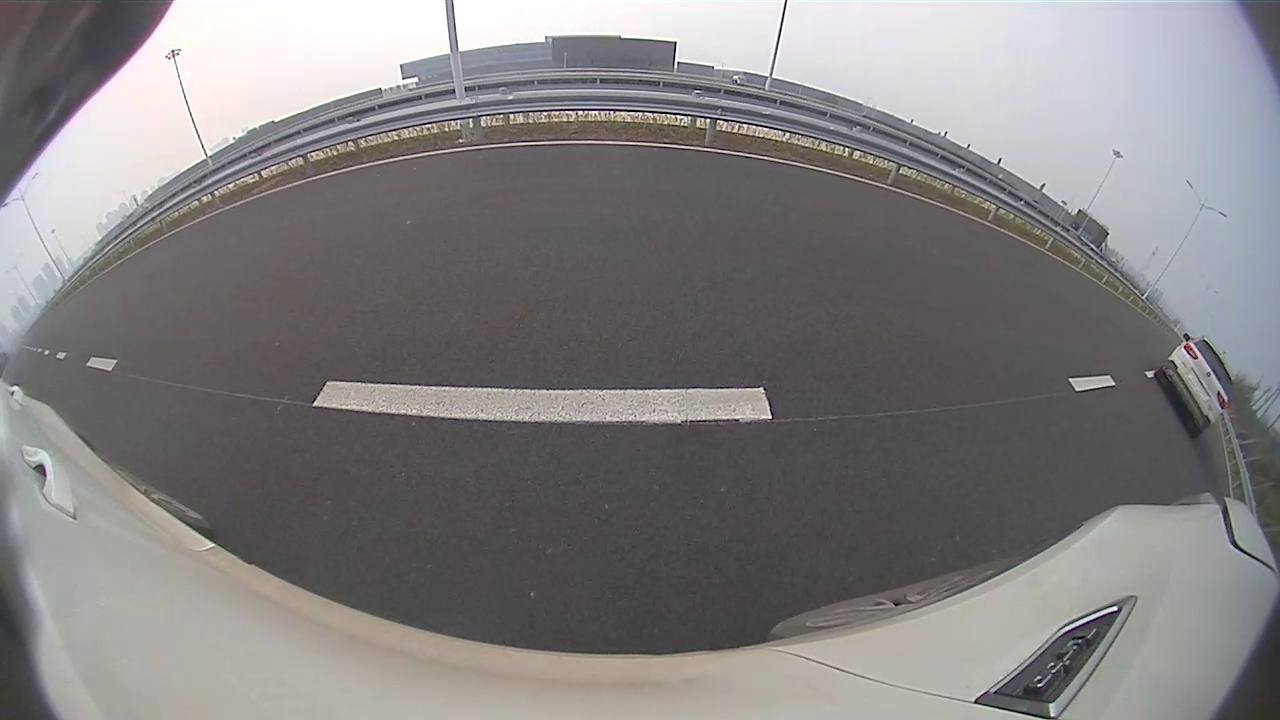car: (623, 110, 768, 228)
